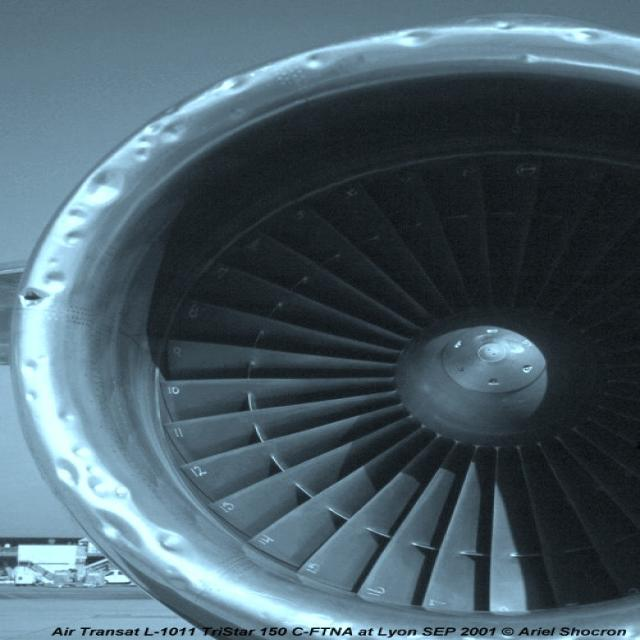dent: (55, 457, 204, 594), (52, 167, 142, 211)
